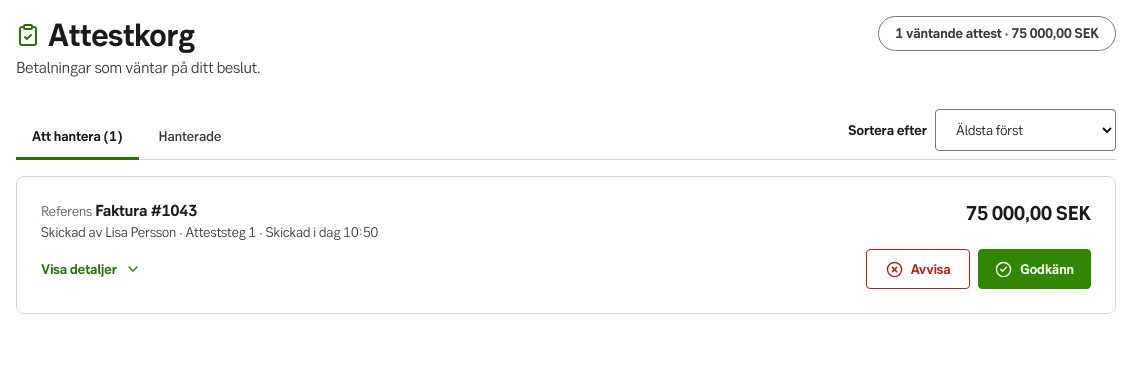
Test case: Approval inbox with keyboard and screen reader › shows an admin's own decisions from the audit log in the Handled tab
Click the tab "Hanterade".
click(190, 138)  # box [142,116,237,160]
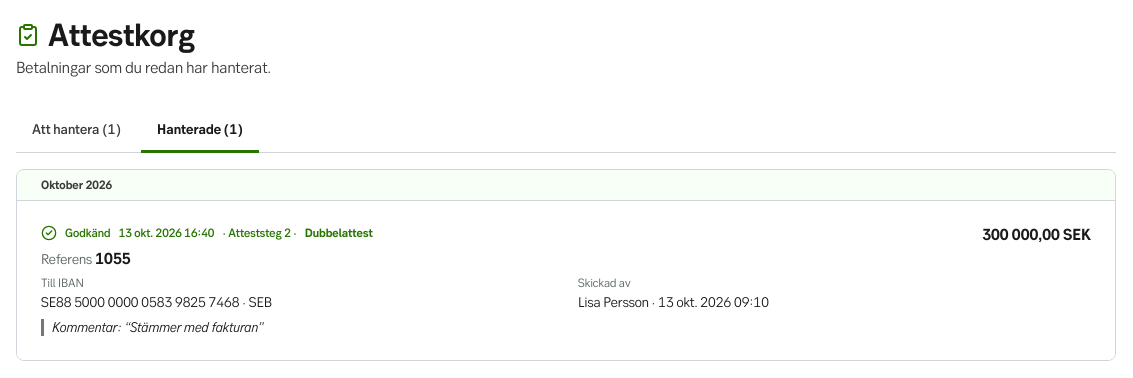
Expected: the heading "Referens 1055" is shown, [41,249,130,268]
Expected: the text "Godkänd 13 okt. 2026 16:40 · Atteststeg 2 · Dubbelattest" is shown, [41,225,373,241]
Expected: the text "Dubbelattest" is shown, [305,226,373,240]
